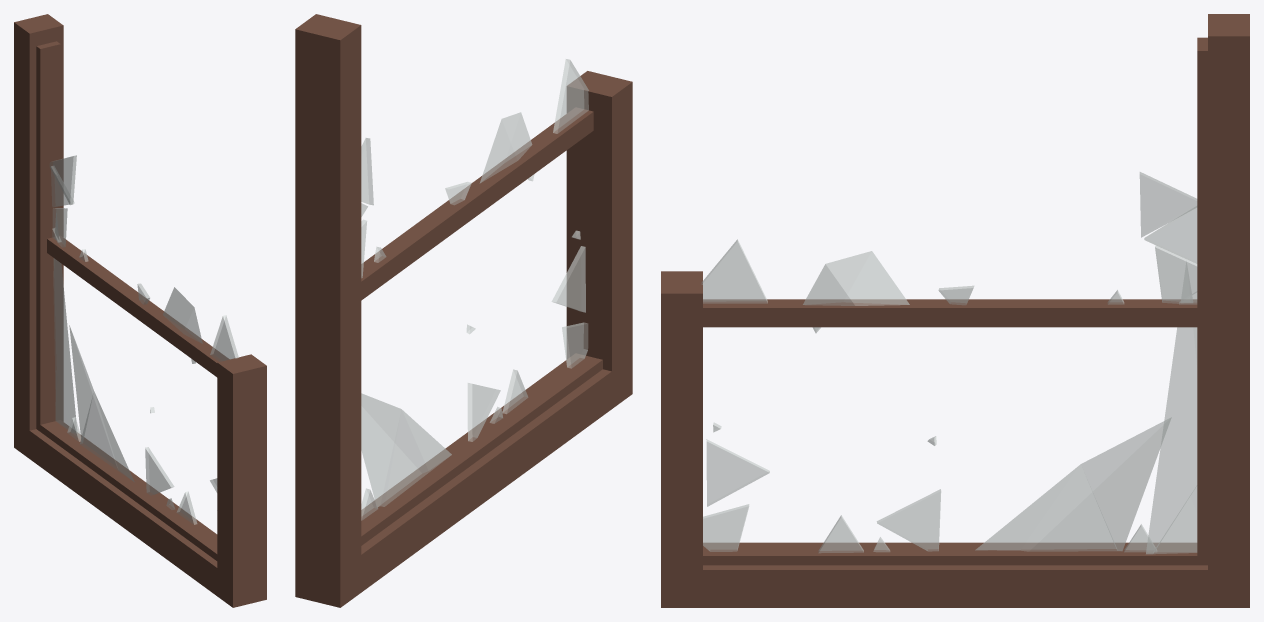
The model's file is Very broken window.glb.
3 renders of one model, left to right at view 1: azimuth 30°, elevation 25°; view 2: azimuth 150°, elevation 25°; view 3: azimuth 270°, elevation 25°, orthographic. The views are drawn at different scales.
Parts seen in each view (by area): view 1: Node; view 2: Node; view 3: Node.
Part boxes in pixels (x1,y1,x2,y2): Node: (14,14,266,607); Node: (295,14,632,607); Node: (661,14,1249,607).
Bounding box in the file's own units: 0.05 × 0.6 × 0.56.
